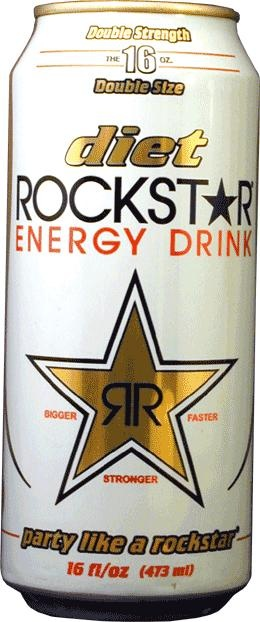grozi_48: (0, 0, 260, 621)
